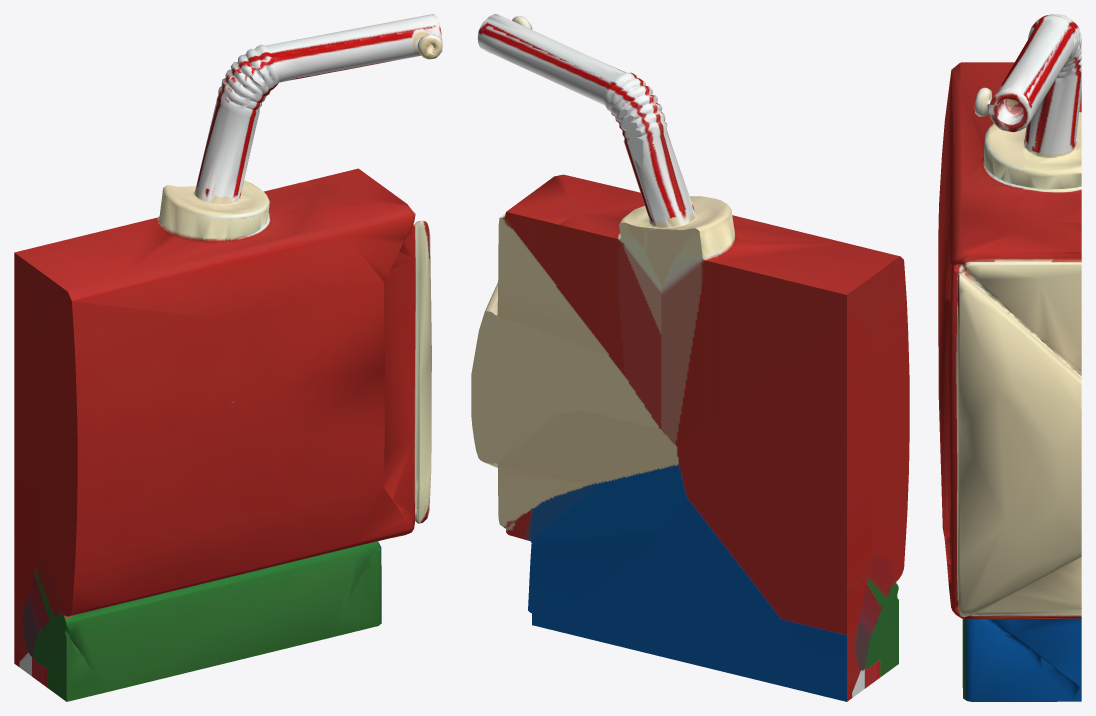
File: 14-topper-front-right.fbx
The picture shows the model from 3 angles, left to right: view 1: azimuth 30°, elevation 25°; view 2: azimuth 150°, elevation 25°; view 3: azimuth 270°, elevation 25°; orthographic projection. The views are drawn at different scales.
Parts seen in each view (by area): view 1: topper-front-right; view 2: topper-front-right; view 3: topper-front-right.
Part boxes in pixels (x1,y1,x2,y2): topper-front-right: (14,14,442,701); topper-front-right: (471,14,909,701); topper-front-right: (938,14,1081,701).
Size of the model in its own units: 6570 by 9132 by 1824.
1 material, 1 textured.
